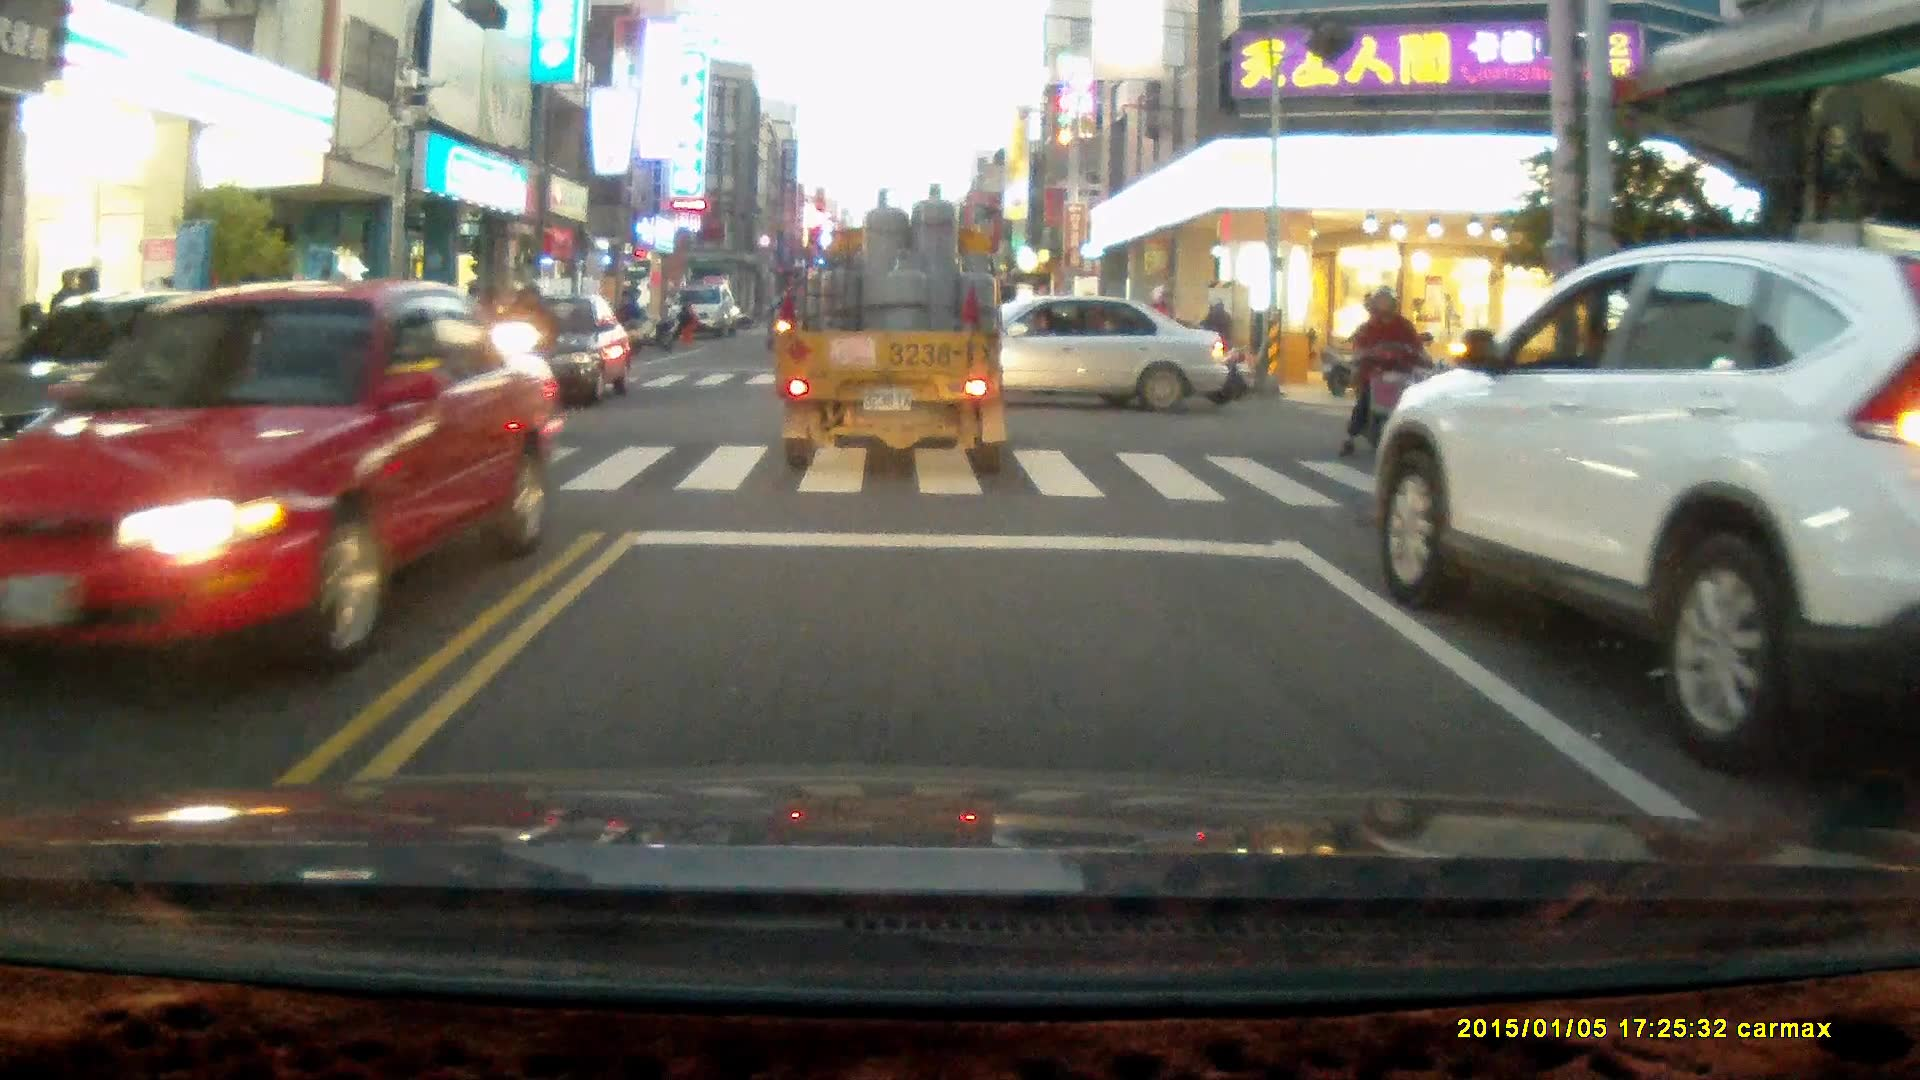pedestrian: (618, 286, 645, 349)
rider: (1335, 282, 1439, 475), (483, 279, 565, 460), (1158, 293, 1252, 398)
vehicle: (1366, 238, 1920, 791), (1, 276, 566, 690), (777, 190, 1018, 471), (892, 293, 1234, 414), (668, 284, 737, 336)
